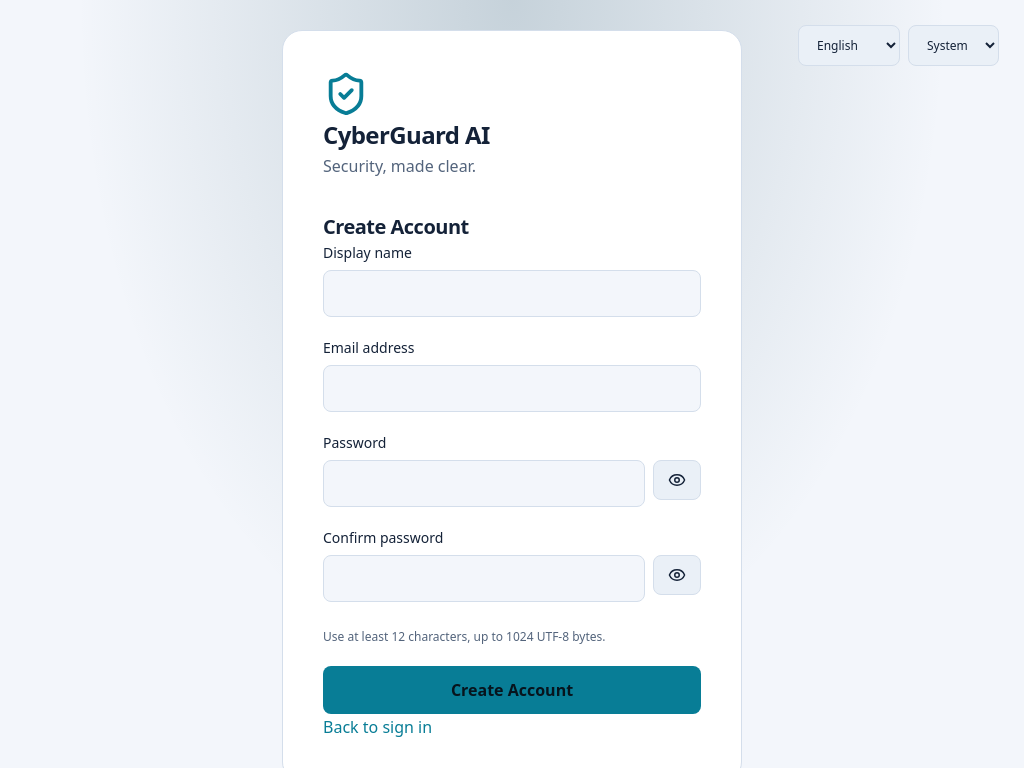
website registration › submits exact payload without CSRF and redirects to login with a private acknowledgment
Type "New user" into the field labelled "Display name".
click(512, 294); type("New user")  # box [323, 270, 701, 317]
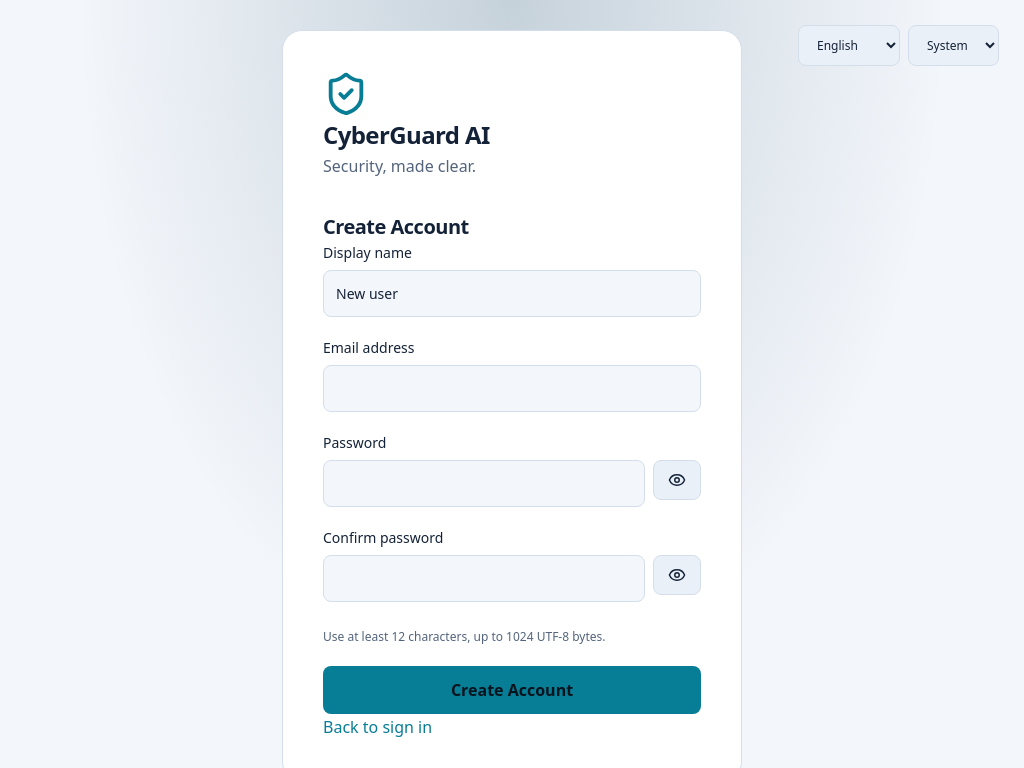
Type "new@example.com" into the field labelled "Email address".
click(512, 389); type("new@example.com")  # box [323, 365, 701, 412]
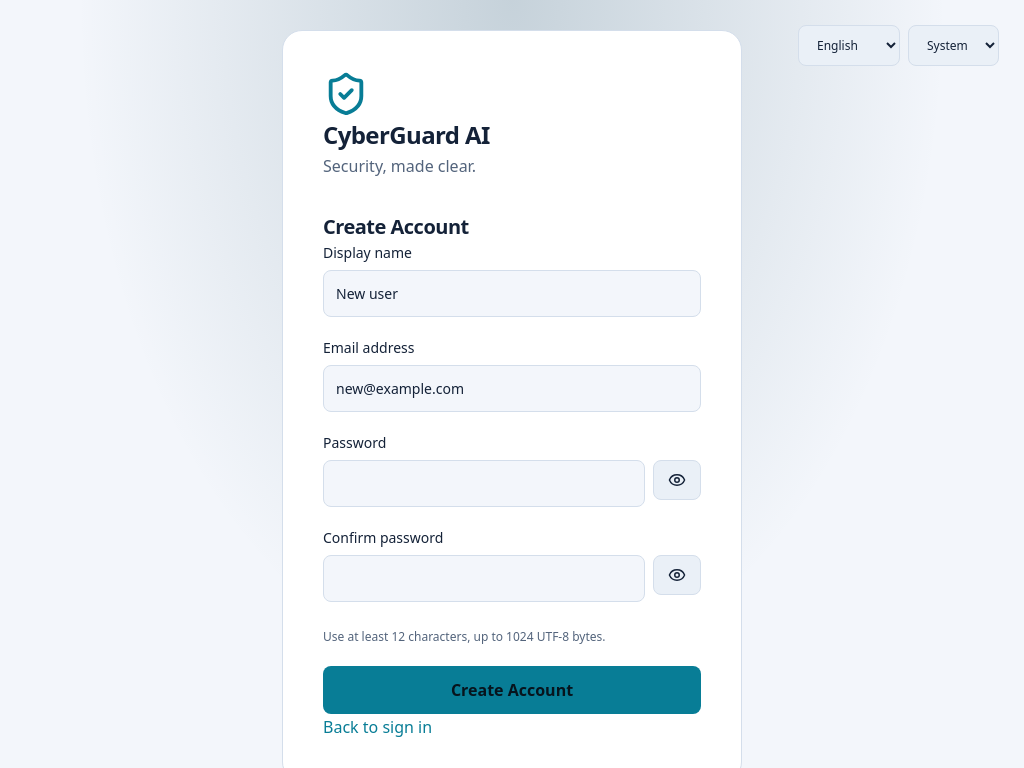
Type "a secure new passphrase" into the password field labelled "Password".
click(484, 484); type("a secure new passphrase")  # box [323, 460, 645, 507]
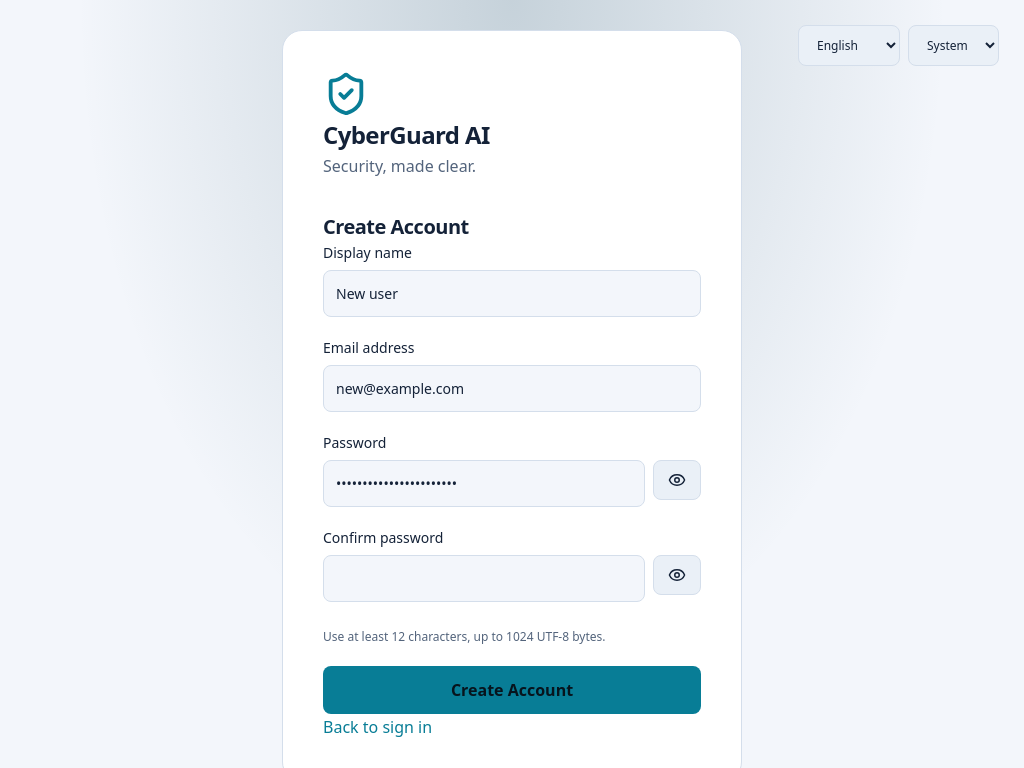
Type "a secure new passphrase" into the password field labelled "Confirm password".
click(484, 579); type("a secure new passphrase")  # box [323, 555, 645, 602]
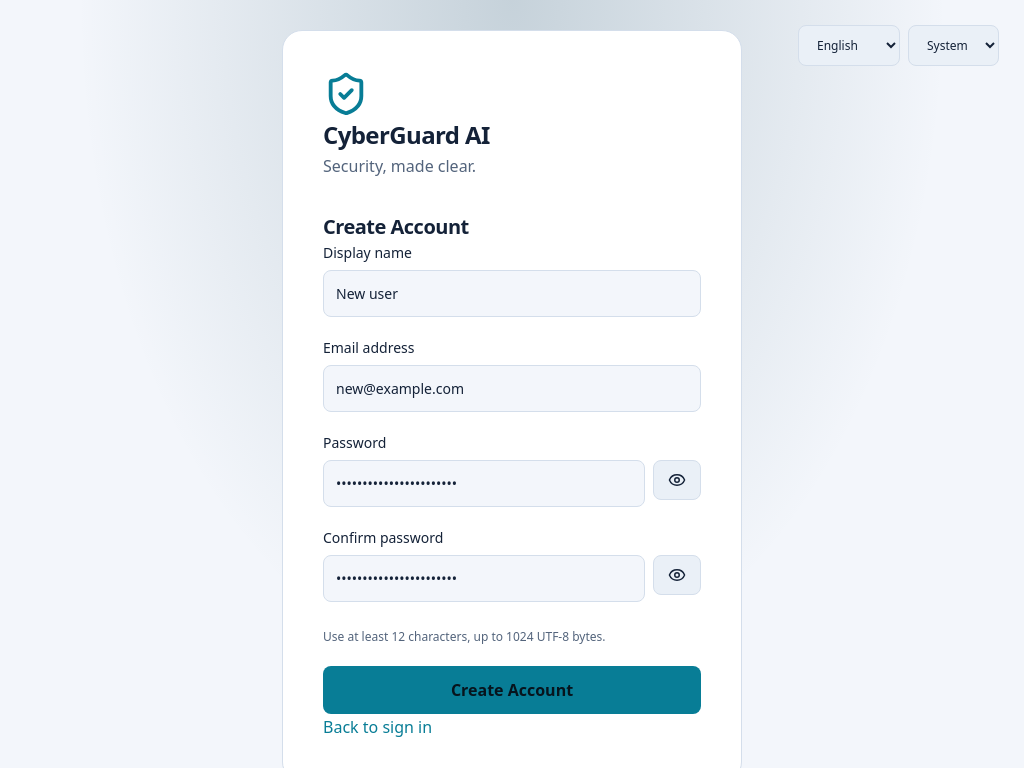
Click the button "Create Account".
click(512, 690)  # box [323, 666, 701, 714]
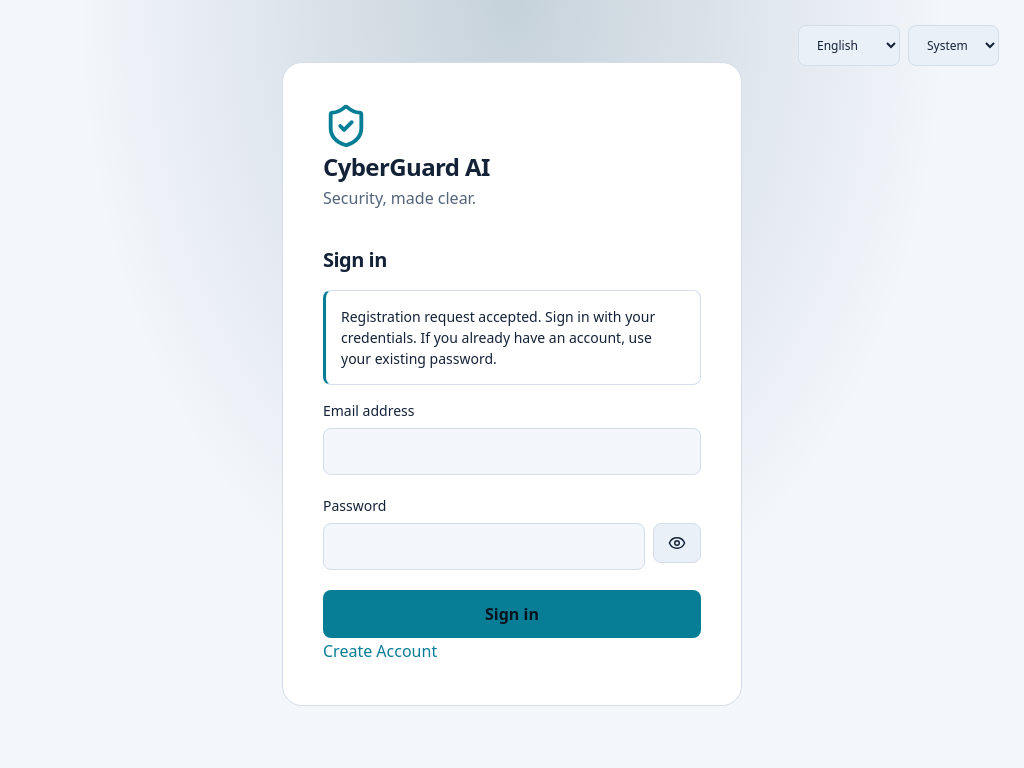
Expected: the text "Registration request accepted" is shown, [341, 306, 655, 368]
Expected: the password field labelled "Password" is empty, [323, 522, 645, 570]
Expected: the button "Sign in" is shown, [323, 590, 701, 638]
